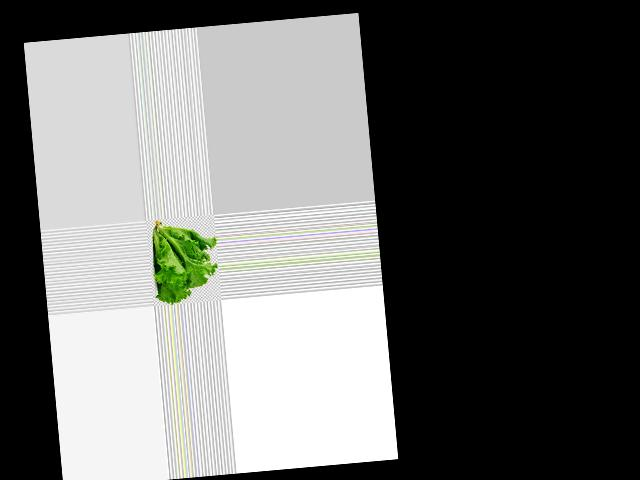lettuce: (151, 214, 221, 304)
